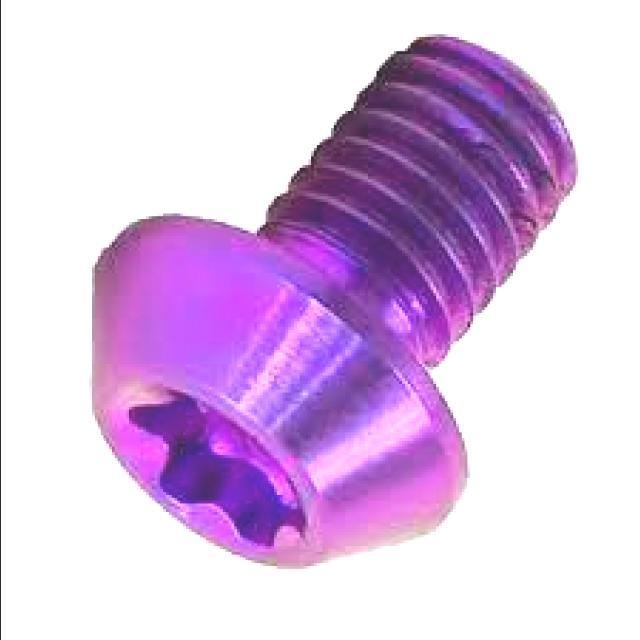Dry Waste: (58, 0, 598, 617)
